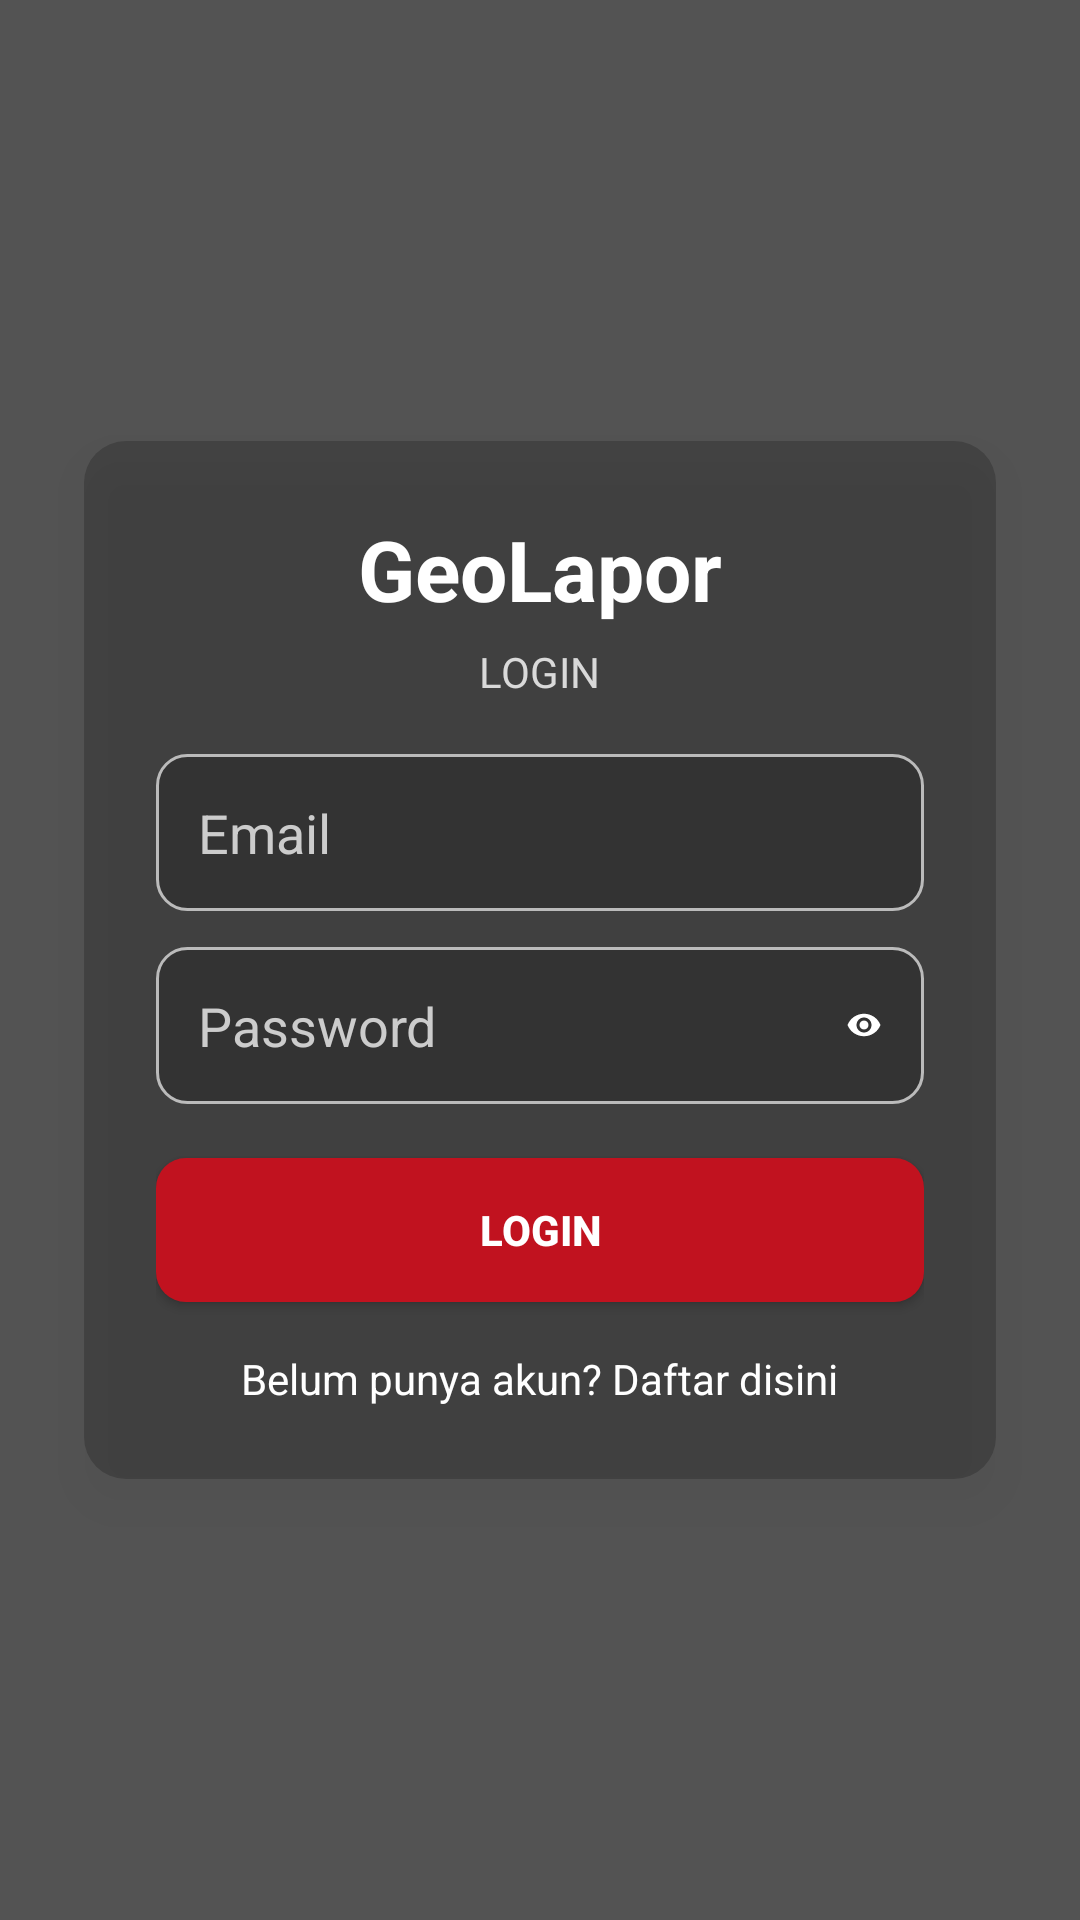

Icon click points for this 1080*1920 phone screenshot, format (x=x, y=y):
eye: (x=864, y=1025)
